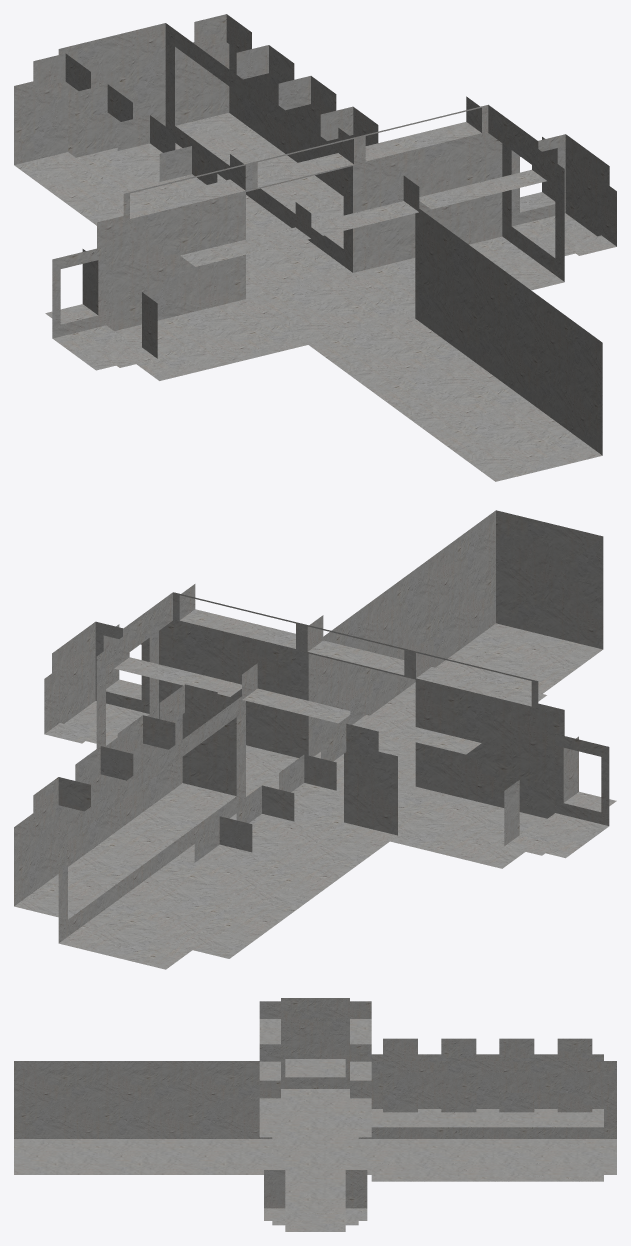
Rendered from galleriac4d.glb.
The picture shows the model from 3 angles, top to bottom: view 1: azimuth 30°, elevation 25°; view 2: azimuth 150°, elevation 25°; view 3: azimuth 270°, elevation 25°; orthographic projection. The views are drawn at different scales.
Visible parts, largest first — view 1: Piano.020_Piano.029; view 2: Piano.020_Piano.029; view 3: Piano.020_Piano.029.
Boxes of the visible parts, x1,y1,x2,y2 form: Piano.020_Piano.029: [14, 14, 616, 481]; Piano.020_Piano.029: [14, 510, 616, 969]; Piano.020_Piano.029: [14, 998, 616, 1231].
Bounding box in the file's own units: 399 × 105 × 588.
1 material, 1 textured.
